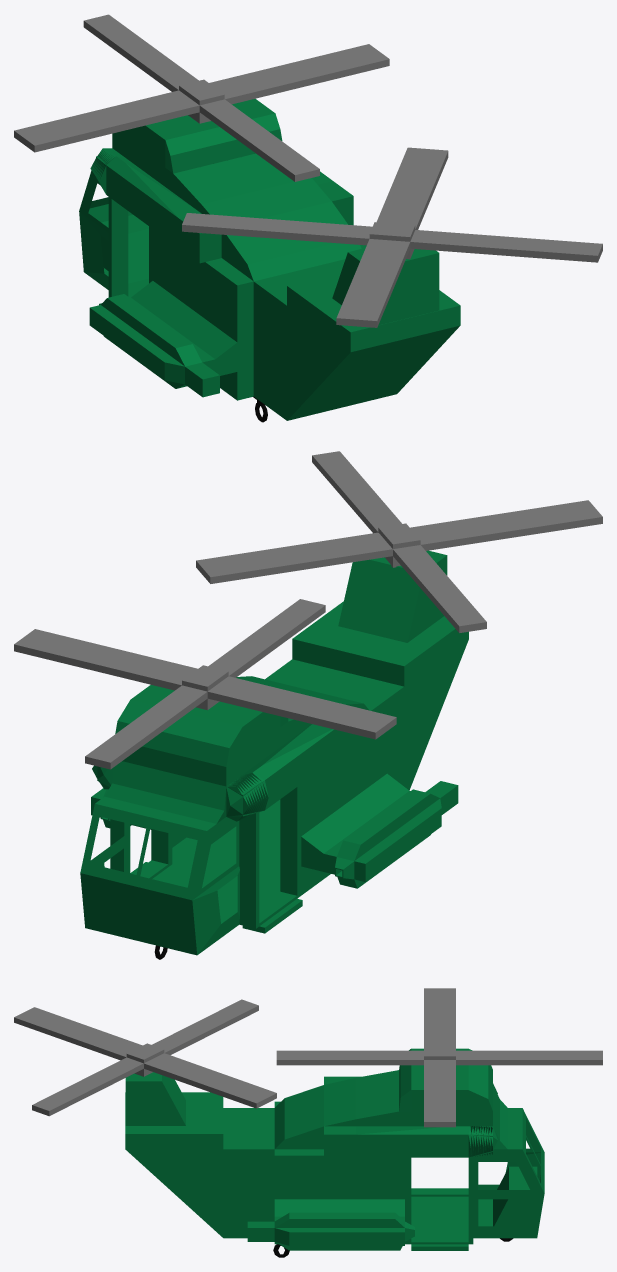
The model's file is Cargobob.glb.
The picture shows the model from 3 angles, top to bottom: view 1: azimuth 30°, elevation 25°; view 2: azimuth 150°, elevation 25°; view 3: azimuth 270°, elevation 25°; orthographic projection. The views are drawn at different scales.
Parts seen in each view (by area): view 1: Cube, Cube.001, Cube.002, Cube.003, Cube.004, Cube.007; view 2: Cube, Cube.002, Cube.003, Cube.001, Cube.004; view 3: Cube, Cube.001, Cube.003, Cube.002, Cube.004.
Part boxes in pixels (bbox=[...]): Cube: bbox=[79, 170, 460, 420]; Cube.001: bbox=[112, 98, 361, 281]; Cube.002: bbox=[14, 14, 389, 181]; Cube.003: bbox=[182, 147, 602, 327]; Cube.004: bbox=[90, 148, 353, 263]; Cube.007: bbox=[287, 325, 459, 420]; Cube: bbox=[80, 550, 468, 955]; Cube.002: bbox=[14, 599, 396, 769]; Cube.003: bbox=[196, 451, 602, 632]; Cube.001: bbox=[105, 676, 369, 823]; Cube.004: bbox=[92, 724, 360, 821]; Cube: bbox=[125, 1072, 544, 1250]; Cube.001: bbox=[274, 1048, 507, 1149]; Cube.003: bbox=[14, 999, 276, 1116]; Cube.002: bbox=[276, 988, 602, 1127]; Cube.004: bbox=[324, 1076, 497, 1157].
Bounding box in the file's own units: 6.46 × 4.27 × 12.01.
